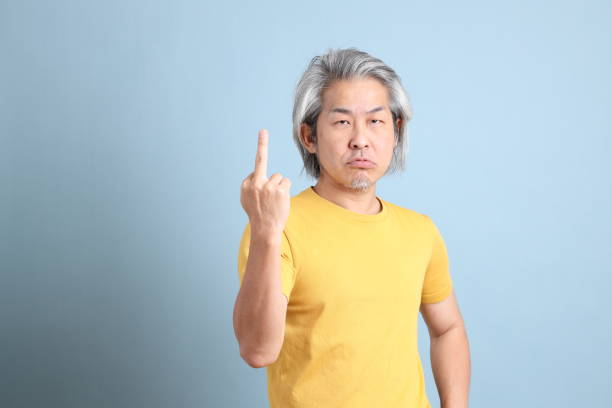insulting_gesture: (240, 123, 292, 238)
